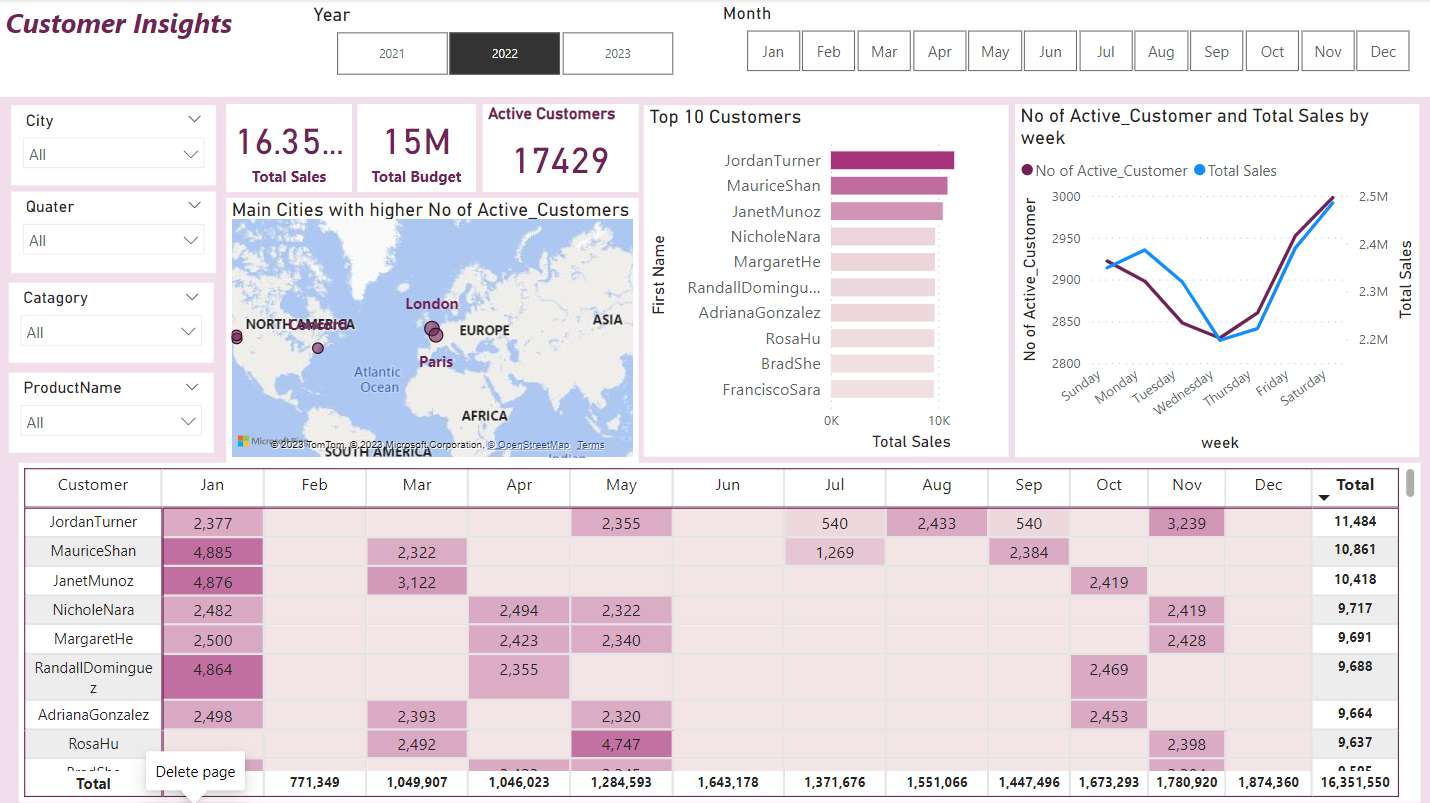

What the dashboard file says about the page in this screenshot:
{"tool":"powerbi","page":{"name":"customer","canvas":[1280,720],"ordinal":1},"visuals":[{"type":"textbox","box":[0,0,1279.6,86.8],"z":0},{"type":"slicer","fields":{"Values":["Dim_Customer.City"]},"box":[9.6,94.6,182.3,71.3],"z":1000},{"type":"slicer","fields":{"Values":["Dim_Calender.Quarter"]},"box":[9.6,171.4,182.3,72.7],"z":2000},{"type":"slicer","fields":{"Values":["Dim_Product.Catagory"]},"box":[8.2,252.3,182.3,71.3],"z":3000},{"type":"slicer","fields":{"Values":["Dim_Product.ProductName"]},"box":[8.2,333.2,182.3,71.3],"z":4000},{"type":"slicer","title":"Month","fields":{"Values":["Dim_Calender.Month"]},"box":[639.2,3.6,640.4,67.5],"z":5000},{"type":"slicer","title":"Year","fields":{"Values":["Dim_Calender.year"]},"box":[273.8,3.6,349.7,71.2],"z":6000},{"type":"barChart","title":"Top 10 Customers ","fields":{"Y":["Necessary Measures.Total Sales"],"Category":["Dim_Customer.FullName"]},"box":[573.5,94.5,325.2,313.1],"z":7000},{"type":"card","fields":{"Values":["Necessary Measures.Total Sales"]},"box":[201.1,93.1,112,78.3],"z":8000},{"type":"card","fields":{"Values":["Necessary Measures.Total Budget"]},"box":[318.5,93.1,105.3,78.3],"z":9000},{"type":"pivotTable","fields":{"Rows":["Dim_Customer.FullName"],"Columns":["Dim_Calender.Month"],"Values":["Necessary Measures.Total Sales"]},"box":[16.2,412.9,1248.2,302.3],"z":10000},{"type":"card","title":"Active Customers","fields":{"Values":["Necessary Measures.No of Active_Customer"]},"box":[429.1,93.1,139,78.3],"z":12000},{"type":"map","title":"Main Cities with higher No of Active_Customers","fields":{"Category":["Dim_Customer.City"],"Size":["Necessary Measures.No of Active_Customer"]},"box":[201.1,176.8,367,236.1],"z":13000},{"type":"lineChart","fields":{"Category":["Dim_Calender.week"],"Y":["Necessary Measures.No of Active_Customer"],"Y2":["Necessary Measures.Total Sales"]},"box":[904.1,93.1,360.3,314.4],"z":13001}]}

Visuals, with their boxes on the page's 1280x720 design canvas (x1, y1, x2, y2). These are canvas units, not pixel positions in the 1430x803 screenshot, which may show the page scaled, cropped or inside an application window:
textbox: [0,0,1280,87]
slicer - Dim_Customer.City: [10,95,192,166]
slicer - Dim_Calender.Quarter: [10,171,192,244]
slicer - Dim_Product.Catagory: [8,252,190,324]
slicer - Dim_Product.ProductName: [8,333,190,404]
"Month" slicer: [639,4,1280,71]
"Year" slicer: [274,4,624,75]
"Top 10 Customers " barChart: [574,94,899,408]
card - Necessary Measures.Total Sales: [201,93,313,171]
card - Necessary Measures.Total Budget: [318,93,424,171]
pivotTable - Dim_Customer.FullName x Dim_Calender.Month: [16,413,1264,715]
"Active Customers" card: [429,93,568,171]
"Main Cities with higher No of Active_Customers" map: [201,177,568,413]
lineChart - Dim_Calender.week x Necessary Measures.No of Active_Customer: [904,93,1264,408]
